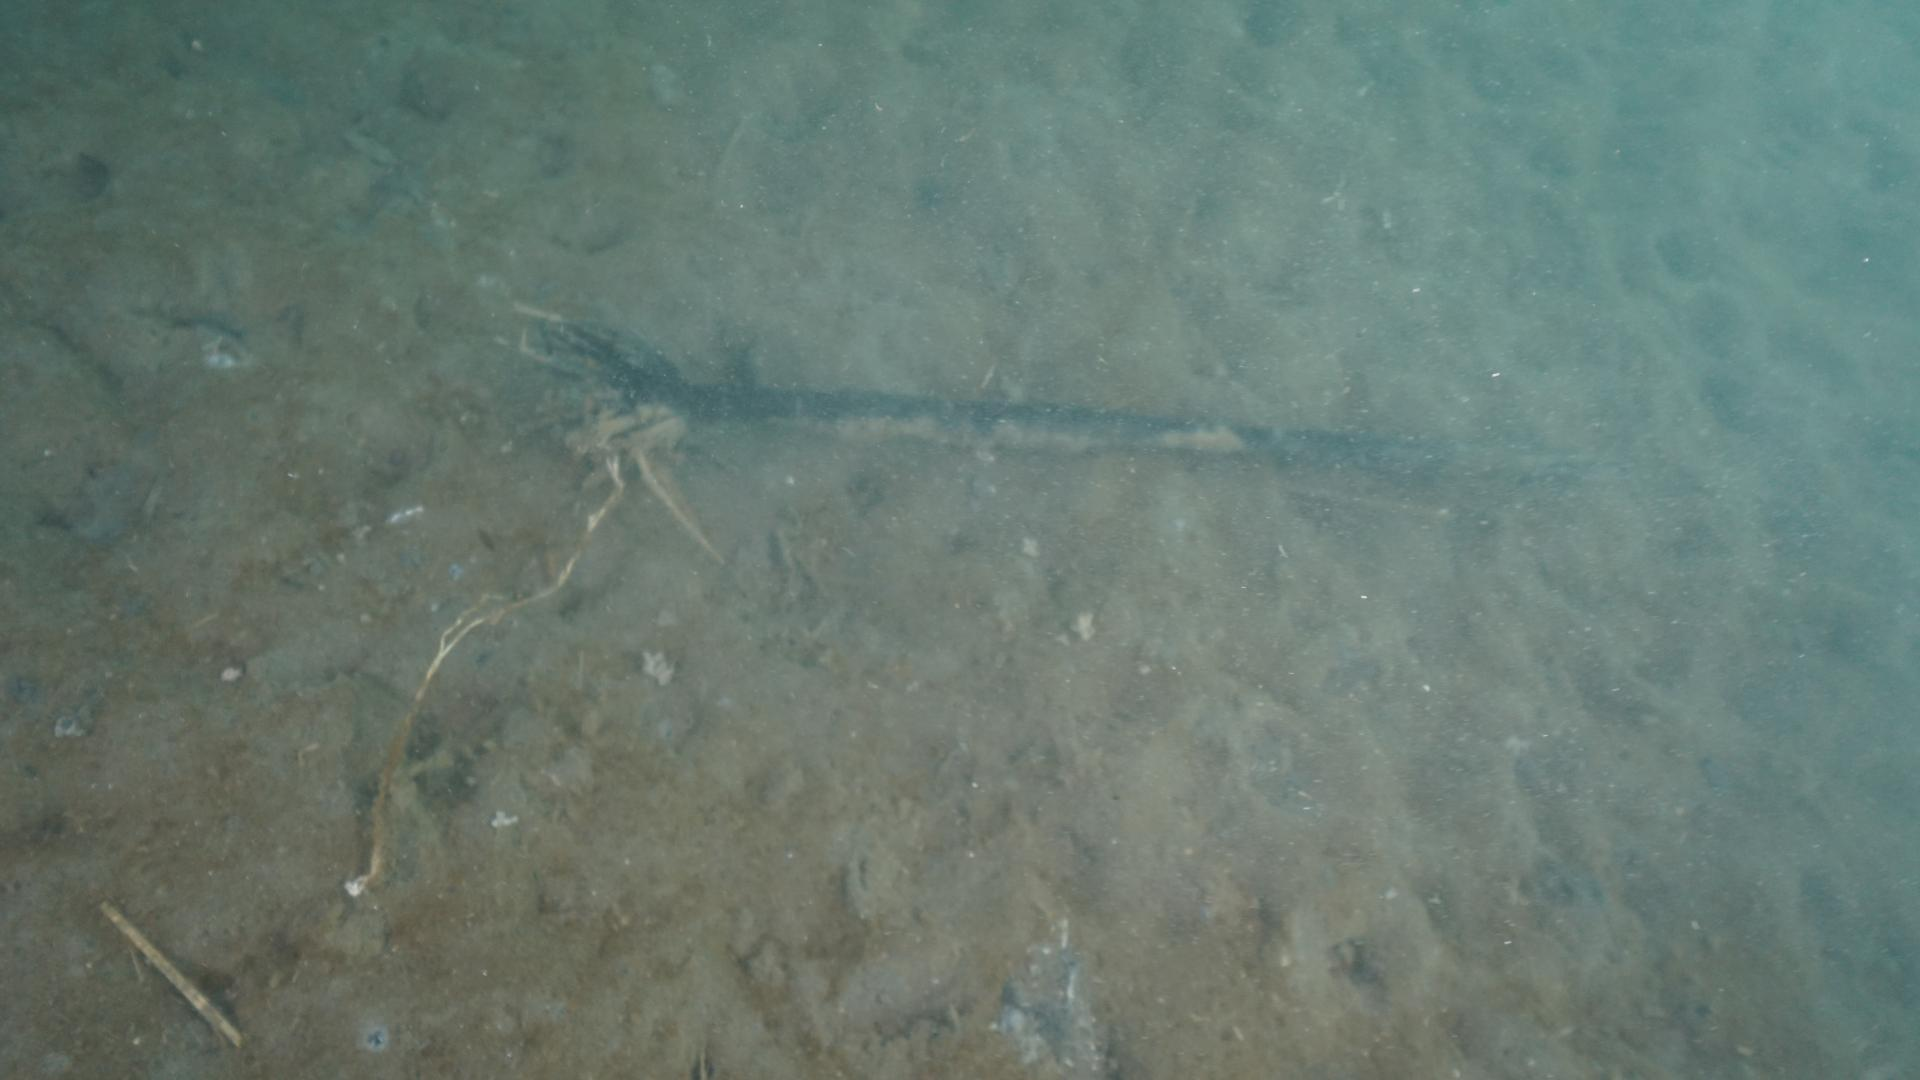wood: (538, 316, 1597, 488)
